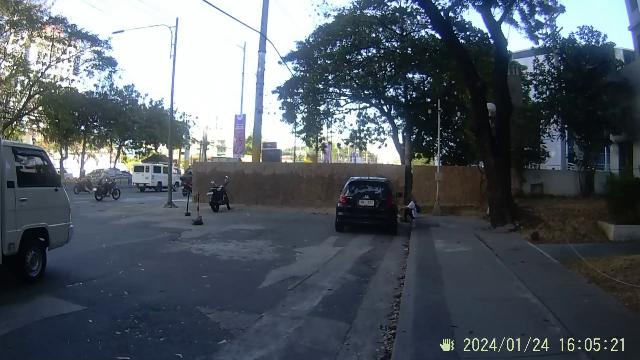car: (330, 173, 402, 237)
lamp_post: (111, 15, 180, 160)
motorcycle: (206, 176, 232, 210)
tree: (471, 71, 531, 229)
utility_post: (251, 7, 269, 160)
